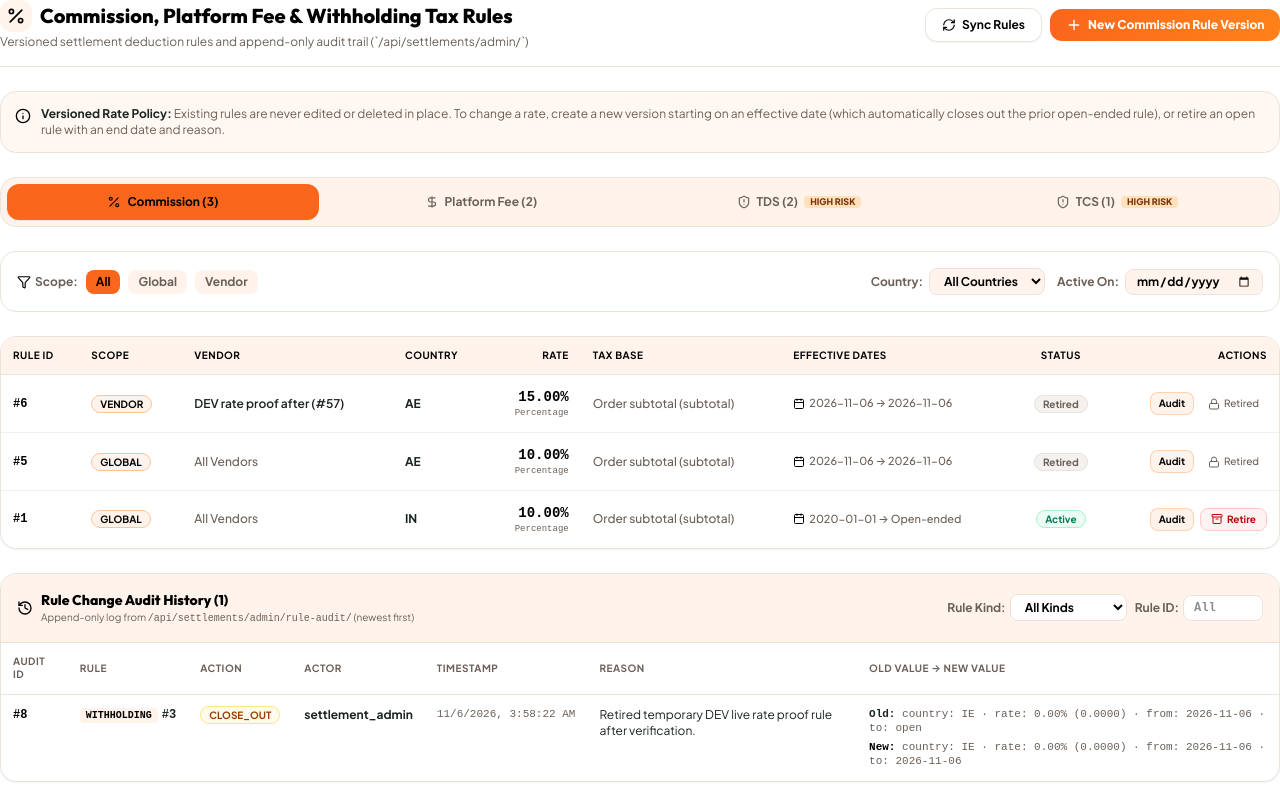
it: CommissionModule — Real Backend Integration › 4. Retires an open rule via confirm dialog with end date and reason and refetches lists
Click the button with test id "retire-rule-1" at point(1234, 519), box [1200,508,1267,531]
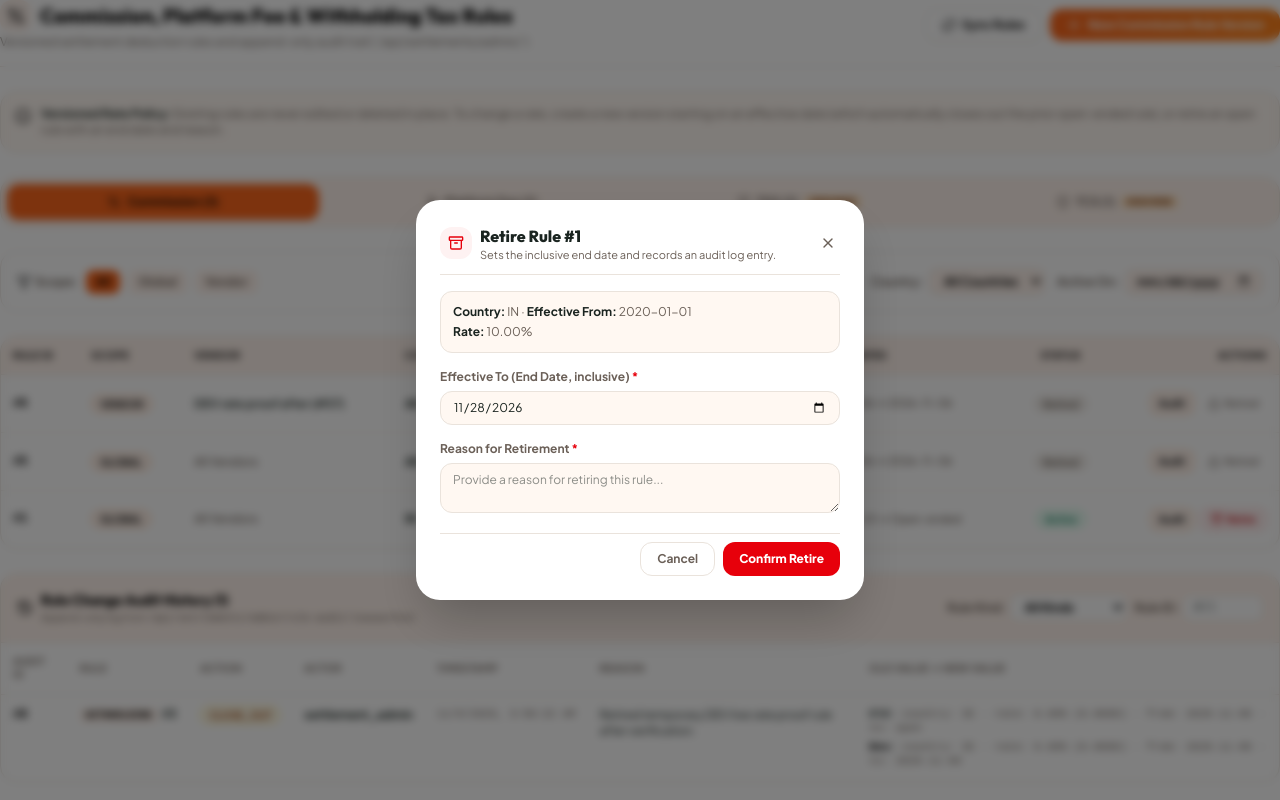
Check: the dialog with test id "retire-rule-dialog" is shown, box [416,200,864,600]
Click the button with test id "confirm-retire-btn" at point(782, 559), box [723,542,840,576]
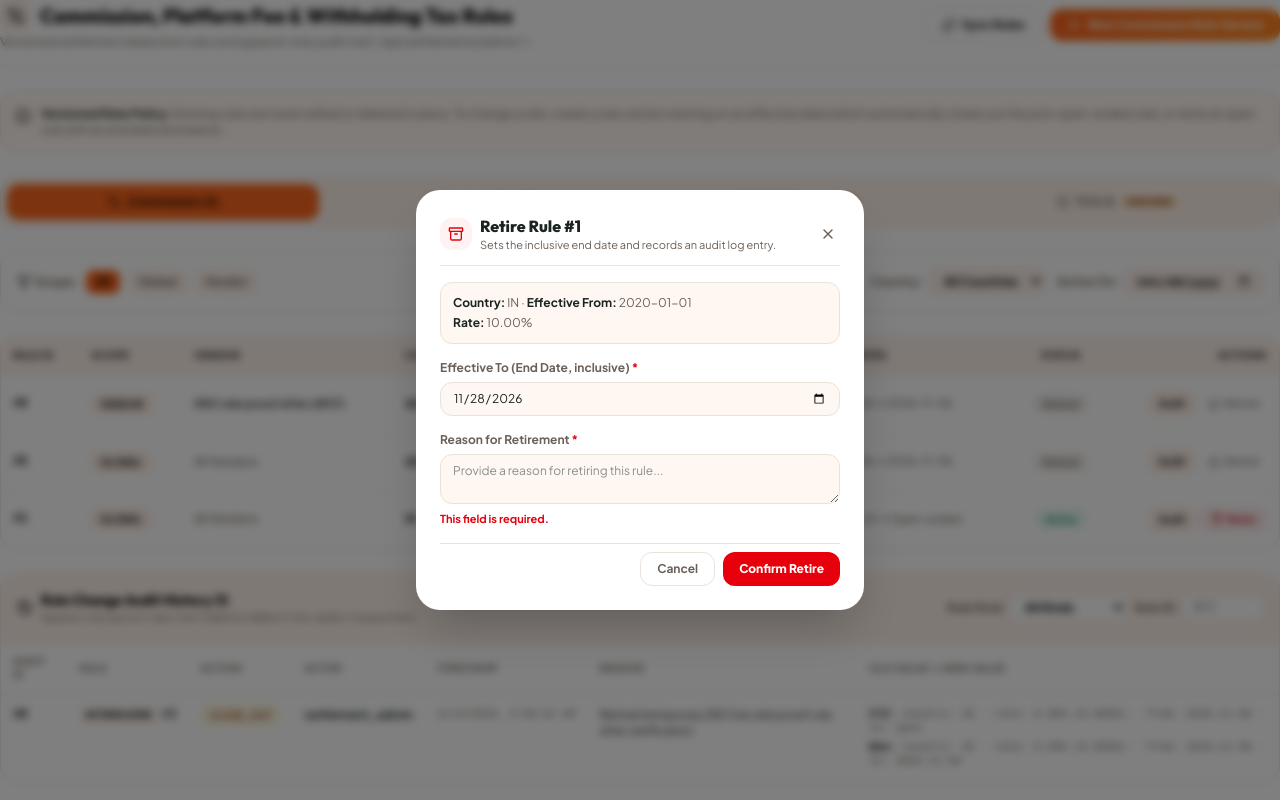
Check: the message with test id "retire-error-reason" reads "This field is required.", box [440,512,549,525]
// Type reason and submit successfully
Type "2026-11-30" into the date field with test id "retire-input-effective_to" at point(640, 399), box [440,382,840,416]
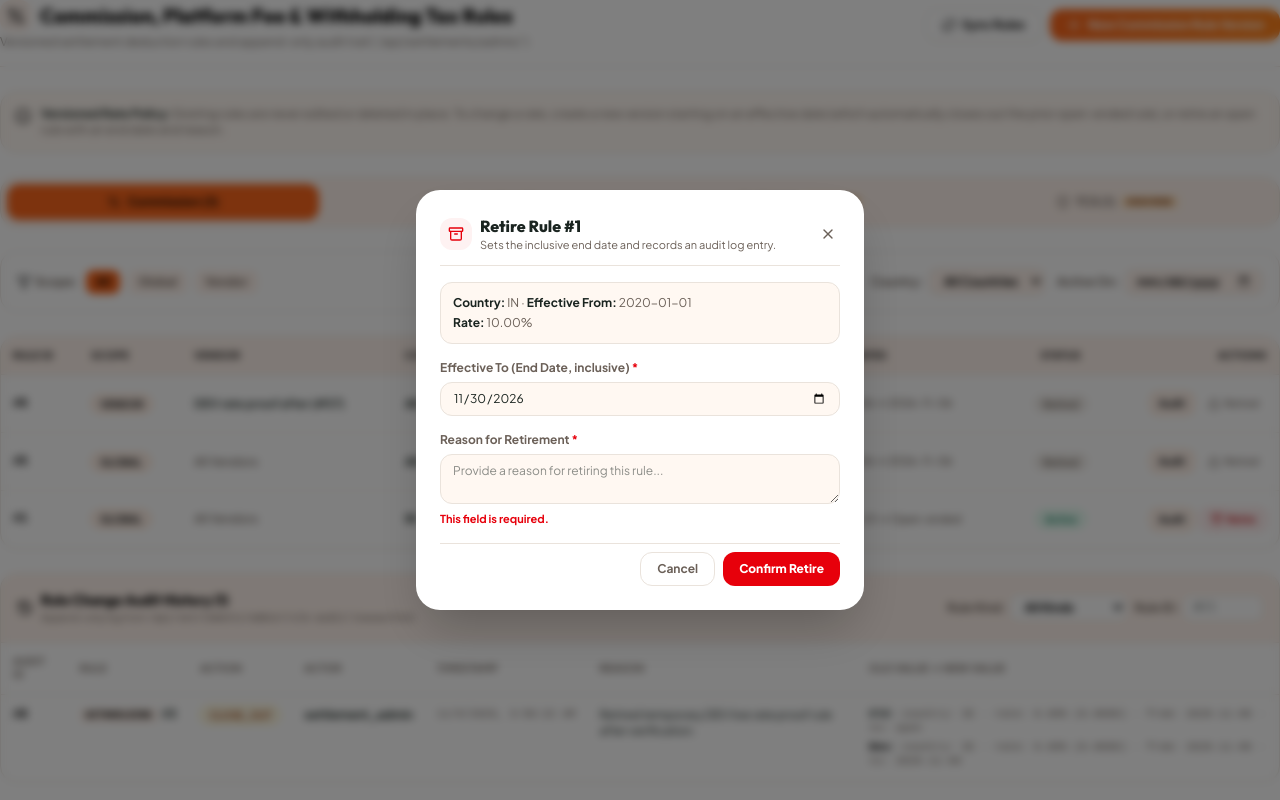
Type "Retiring test rule" into the text box with test id "retire-input-reason" at point(640, 479), box [440,454,840,504]
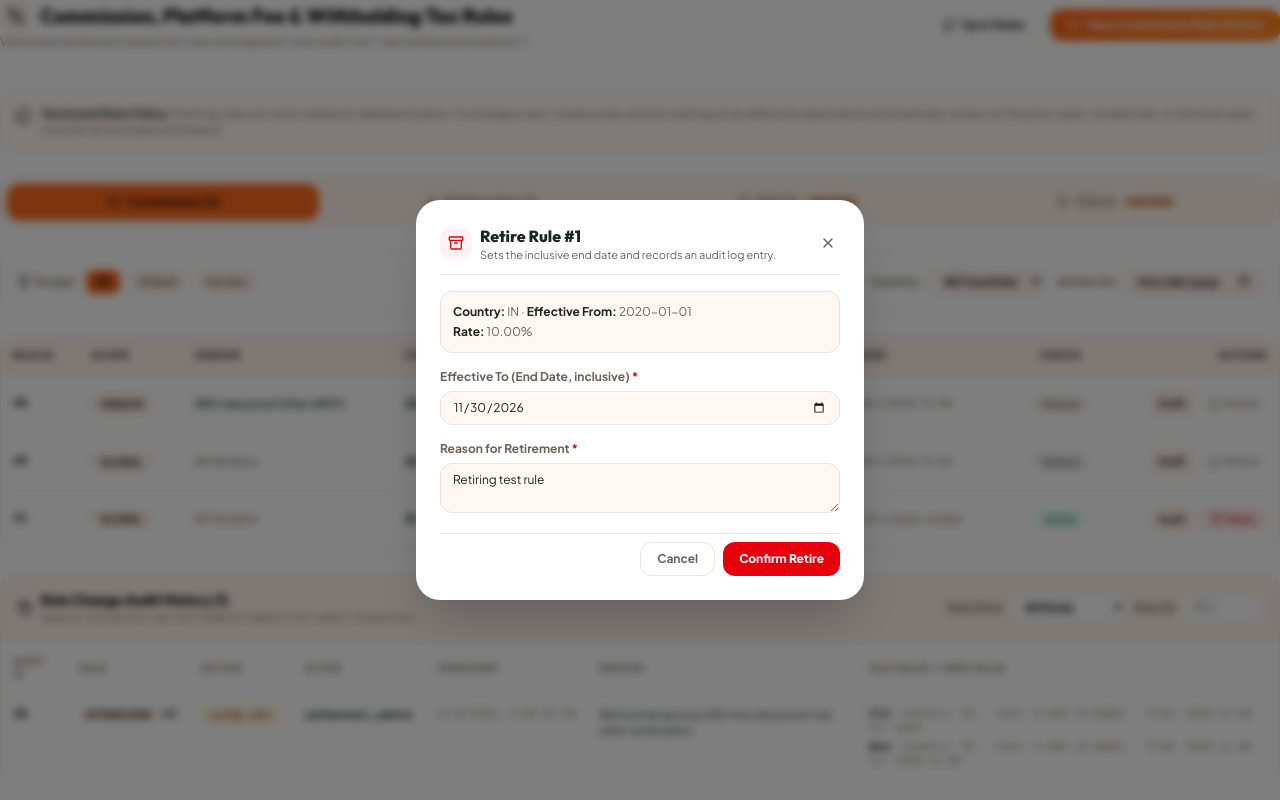
Click the button with test id "confirm-retire-btn" at point(782, 559), box [723,542,840,576]
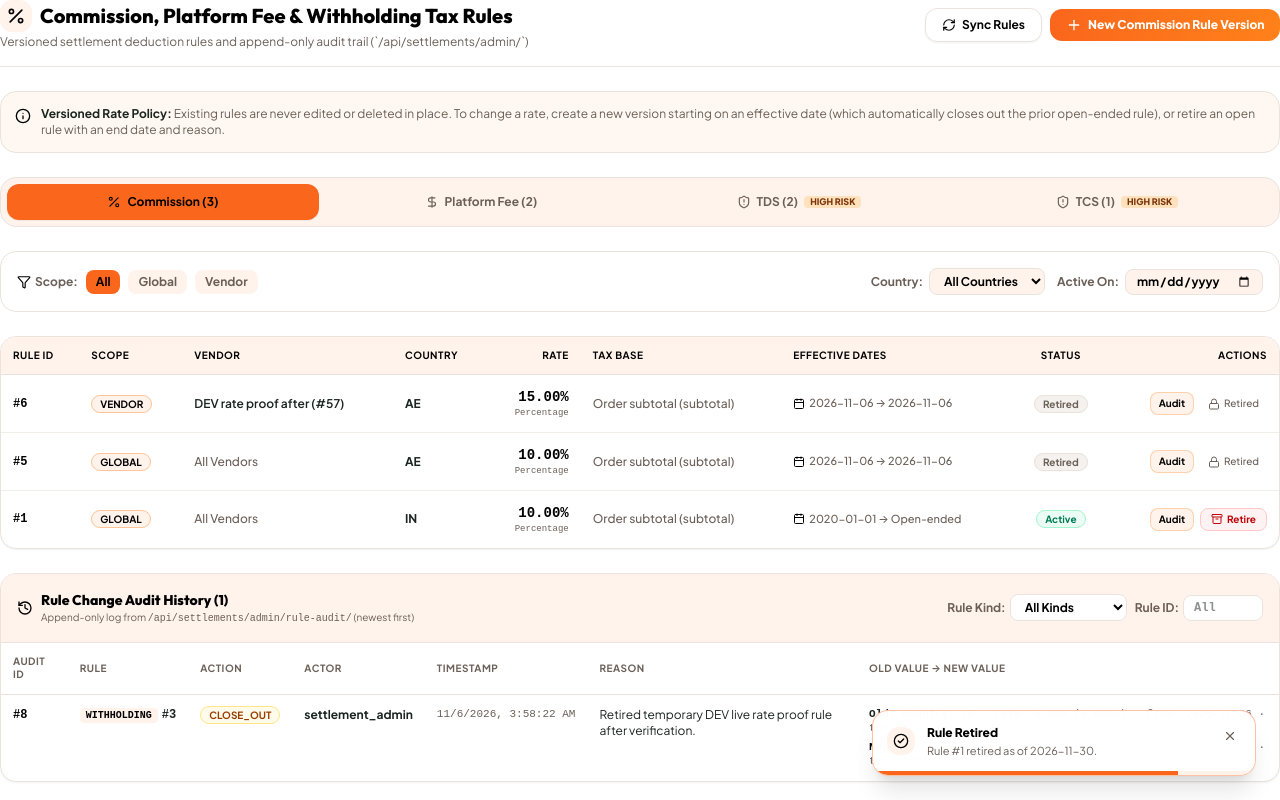
Check: the dialog with test id "retire-rule-dialog" is gone
